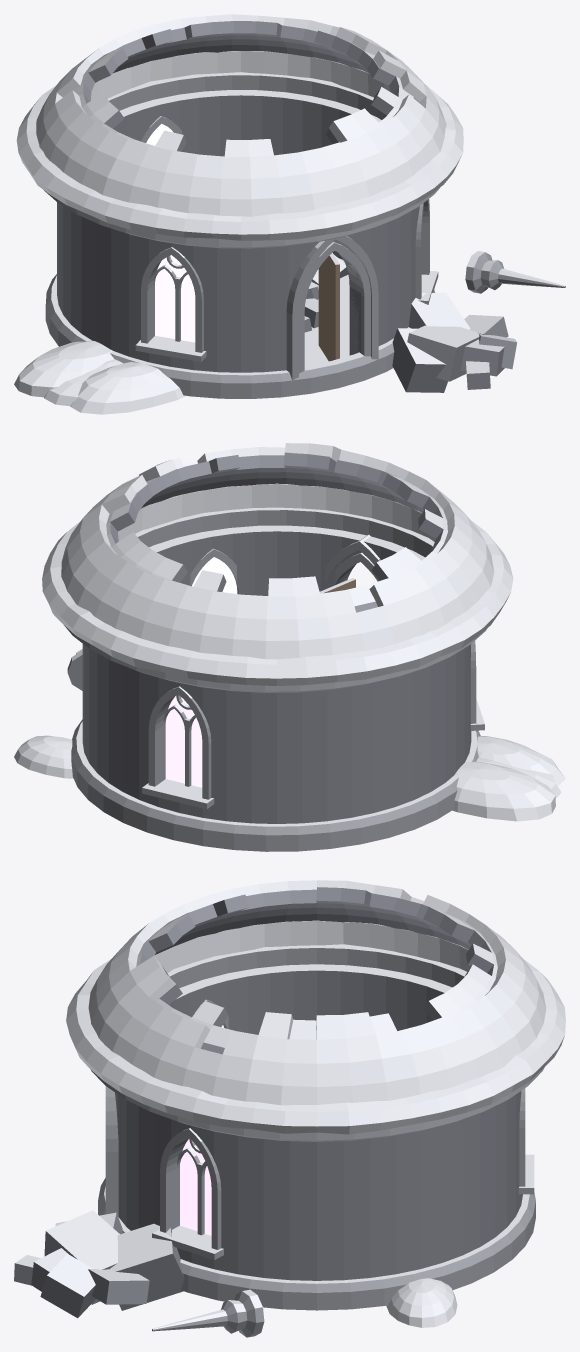
The model's file is AR_Casinha_C.fbx.
3 views of the same model, one above another, from view 1: azimuth 30°, elevation 25°; view 2: azimuth 150°, elevation 25°; view 3: azimuth 270°, elevation 25° (orthographic). The views are drawn at different scales.
Visible parts, largest first — view 1: AR_Casinha_C; view 2: AR_Casinha_C; view 3: AR_Casinha_C.
Boxes of the visible parts, box(x1,y1,x2,y2) form: AR_Casinha_C: box(14, 14, 565, 414); AR_Casinha_C: box(14, 443, 565, 851); AR_Casinha_C: box(14, 880, 565, 1337).
Bounding box in the file's own units: 14.84 × 7.58 × 12.86.
